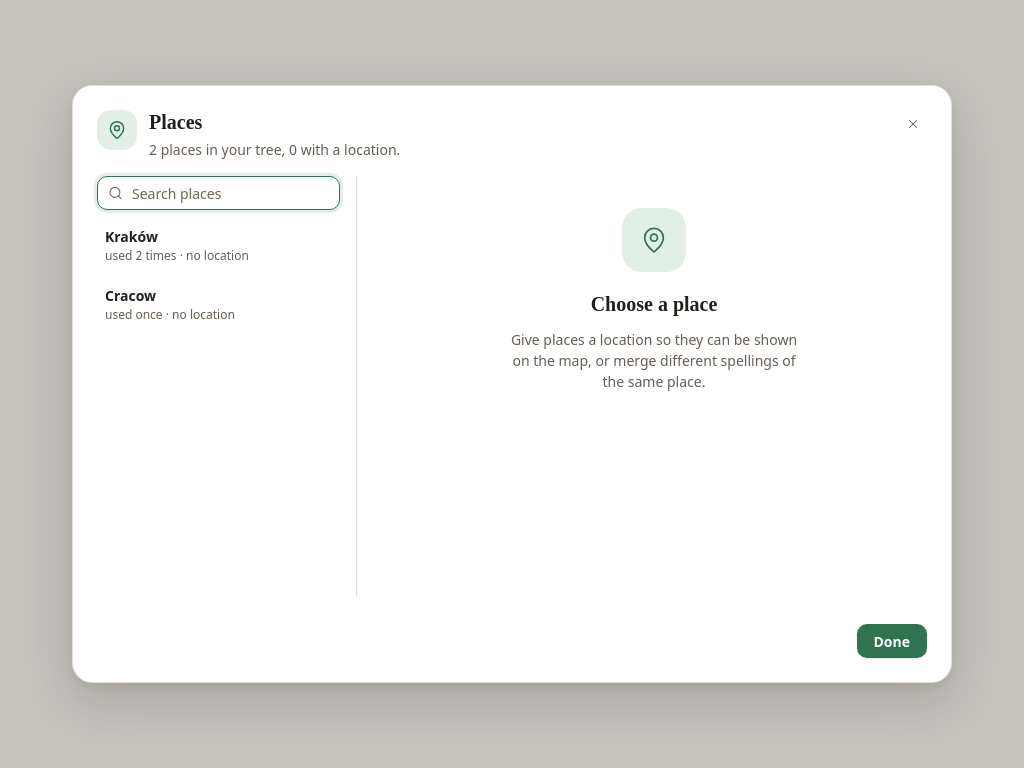
Scenario: PlacesDialog › asks before the first online lookup, then uses the chosen result
Click the button "Kraków used 2 times · no location" at (218, 246), box [97,218,340,273]
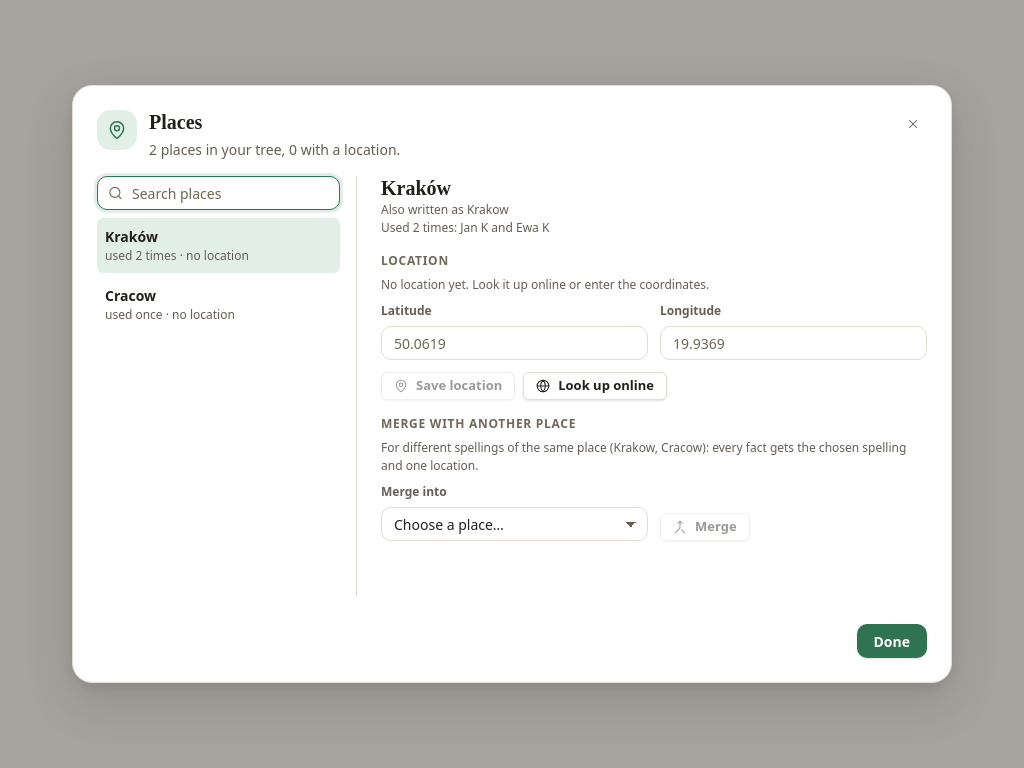
Click the button "Look up online" at (595, 386), box [523,372,667,400]
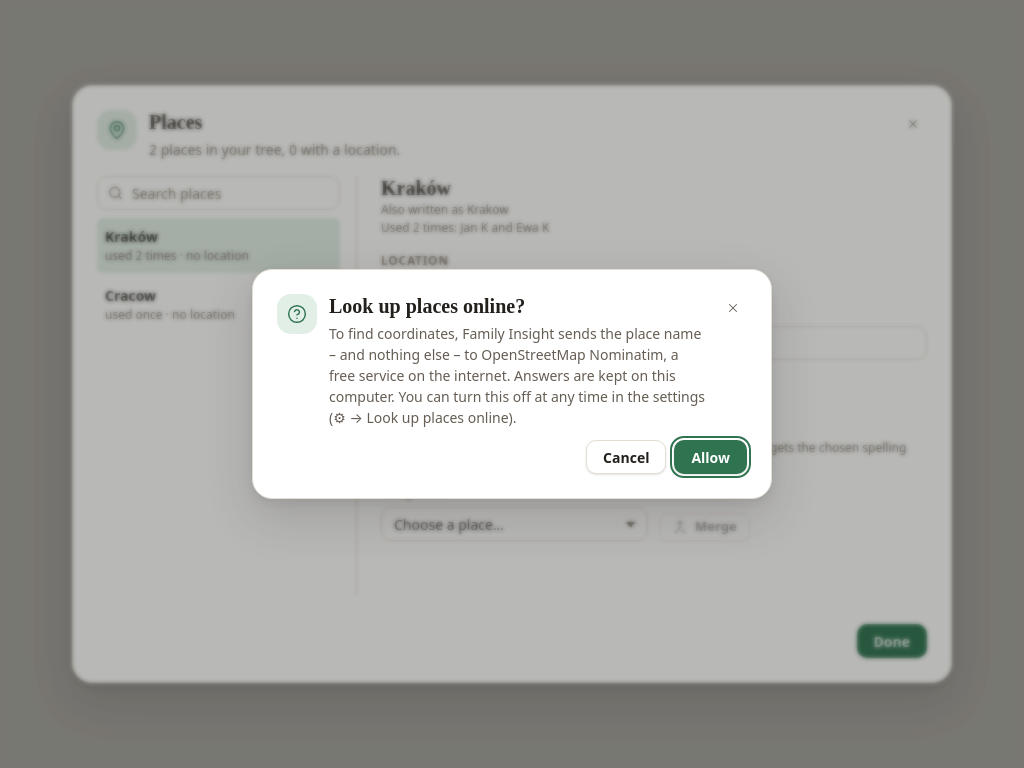
Expected: the heading "Look up places online?" is shown, [329,295,525,317]
Click the button "Allow" at (711, 457), box [674,440,747,474]
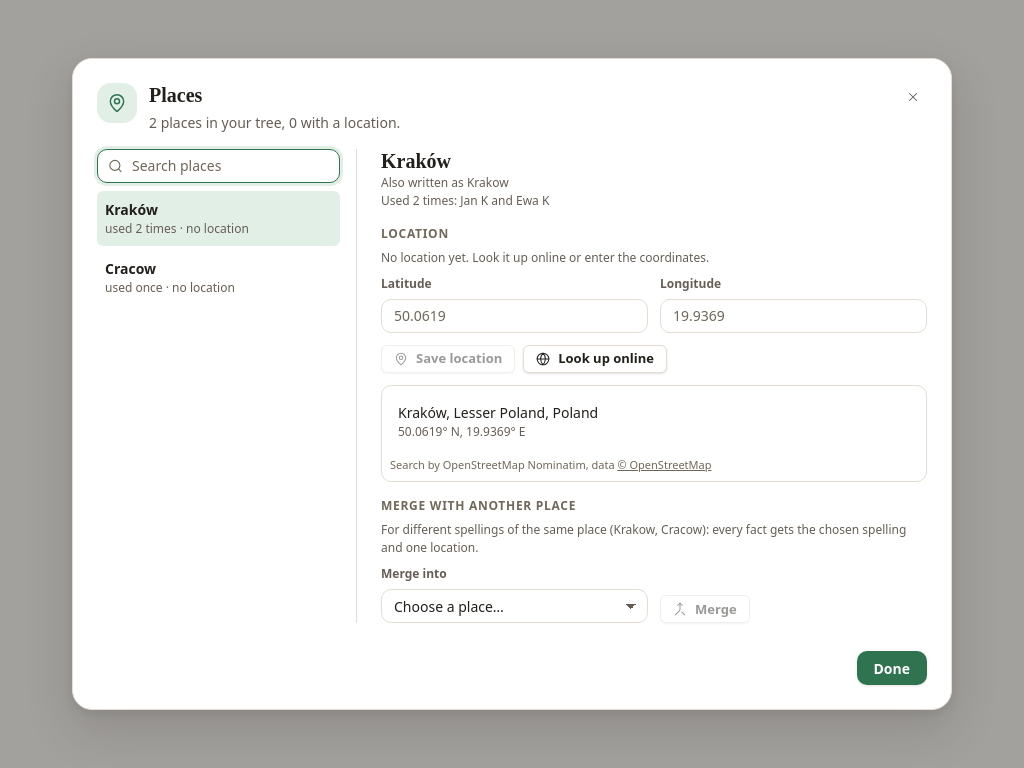
Click the button "Kraków, Lesser Poland, Poland 50.0619° N, 19.9369° E" at (498, 412), box [390,394,918,449]
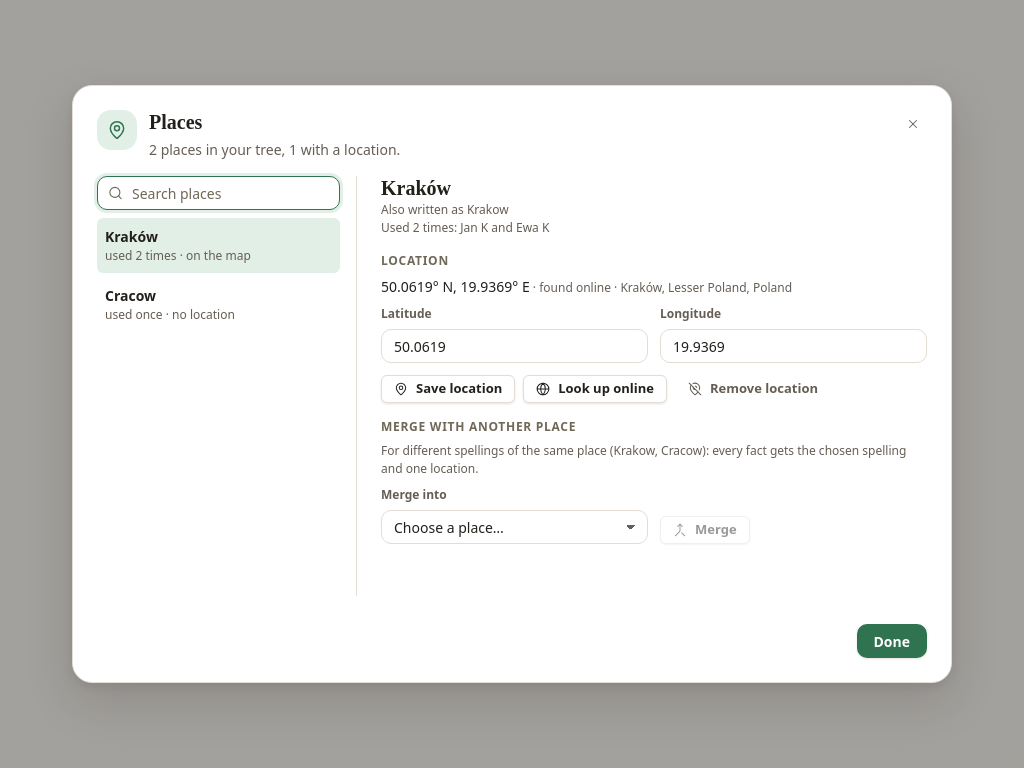
Expected: the text "50.0619° N, 19.9369° E" is shown, [381,277,530,296]
